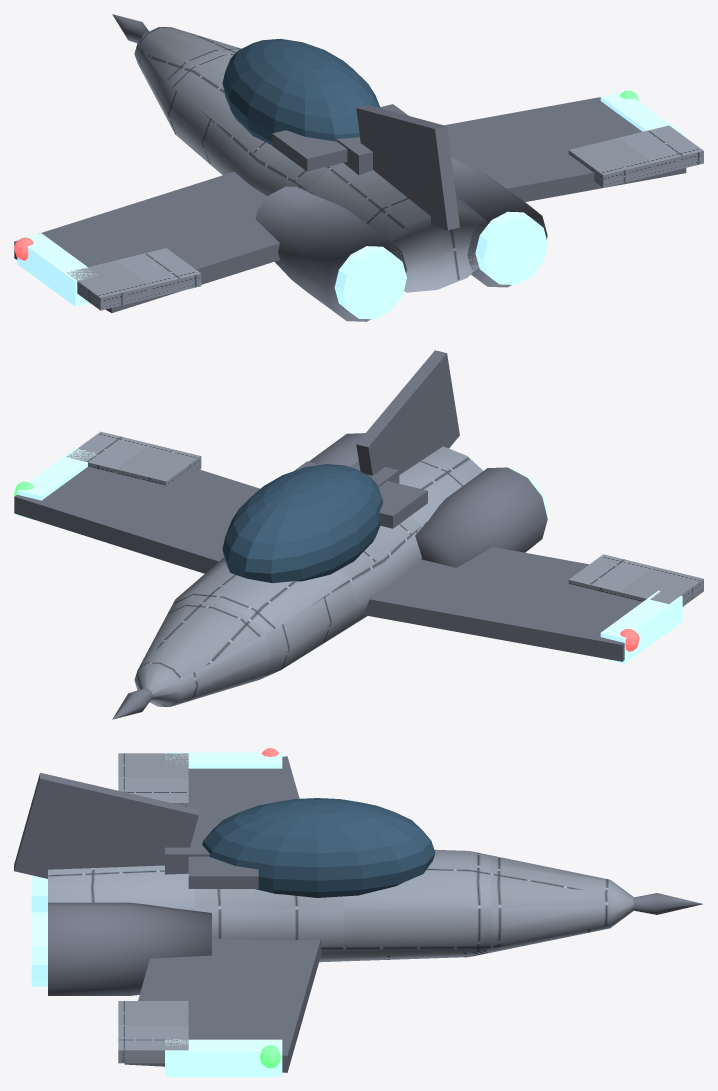
Rendered from kestrel.glb.
The picture shows the model from 3 angles, top to bottom: view 1: azimuth 30°, elevation 25°; view 2: azimuth 150°, elevation 25°; view 3: azimuth 270°, elevation 25°; orthographic projection.
Visible parts, largest first — view 1: Wings, Fuselage, Canopy, EnginePod, TailFin, EngineGlow, EngineGlow.001, EnginePod.001, CanopyFrame, Spine, NoseSpike; view 2: Wings, Fuselage, Canopy, EnginePod, TailFin, CanopyFrame, EnginePod.001, NoseSpike; view 3: Fuselage, Wings, Canopy, TailFin, EnginePod.001, CanopyFrame, EngineGlow.001, Spine, NoseSpike, EngineGlow.
Part boxes in pixels (x1,y1,x2,y2): Wings: (14,91,703,312); Fuselage: (134,27,487,292); Canopy: (222,39,380,144); EnginePod: (255,186,406,321); TailFin: (356,105,459,230); EngineGlow: (334,246,406,319); EngineGlow.001: (475,211,547,284); EnginePod.001: (451,157,547,287); CanopyFrame: (272,104,408,171); Spine: (336,137,372,175); NoseSpike: (112,14,148,42); Wings: (14,431,703,663); Fuselage: (134,446,482,706); Canopy: (222,464,383,583); EnginePod: (415,467,547,567); TailFin: (356,350,459,475); CanopyFrame: (294,461,427,528); EnginePod.001: (309,433,365,466); NoseSpike: (112,688,152,719); Fuselage: (48,849,633,962); Wings: (118,752,321,1076); Canopy: (202,798,435,897); TailFin: (14,772,198,878); EnginePod.001: (48,902,211,995); CanopyFrame: (188,817,258,888); EngineGlow.001: (31,912,47,986); Spine: (165,834,210,874); NoseSpike: (633,893,702,914); EngineGlow: (31,875,47,911).
Size of the model in its own units: 3.1 by 0.8546 by 2.94.
7 materials, 1 textured.
